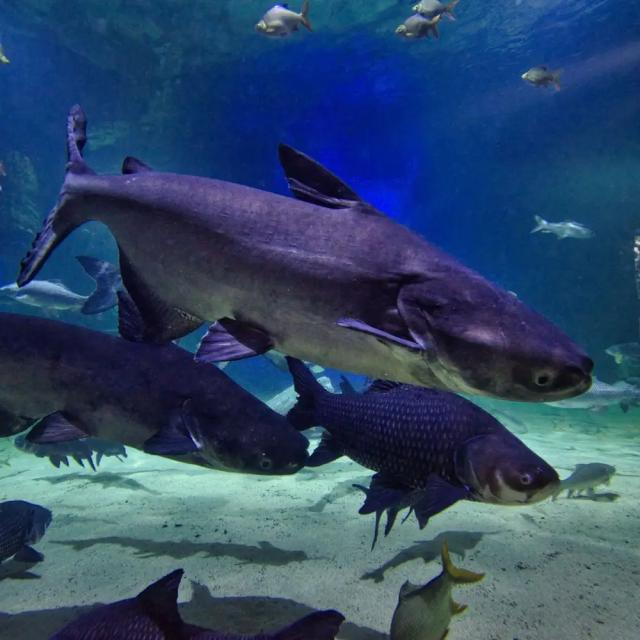Mekong_Giant_Catfish: (16, 99, 596, 407)
